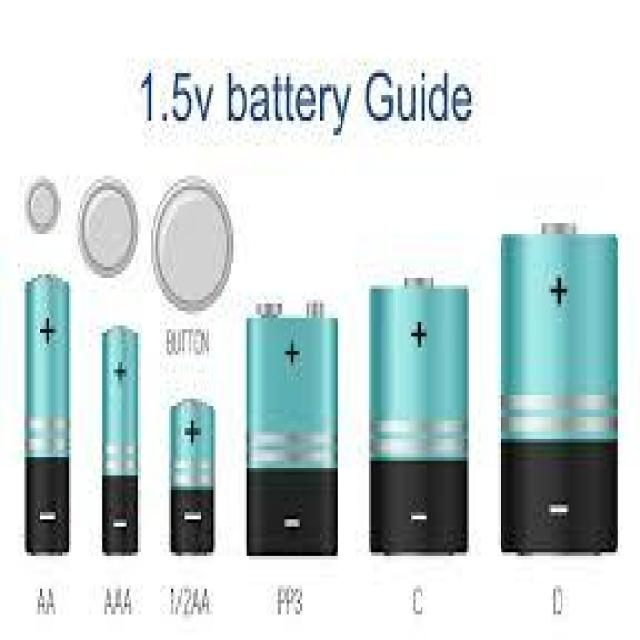9V: (242, 280, 342, 576)
AA: (17, 262, 76, 562)
AAA: (97, 311, 143, 567)
